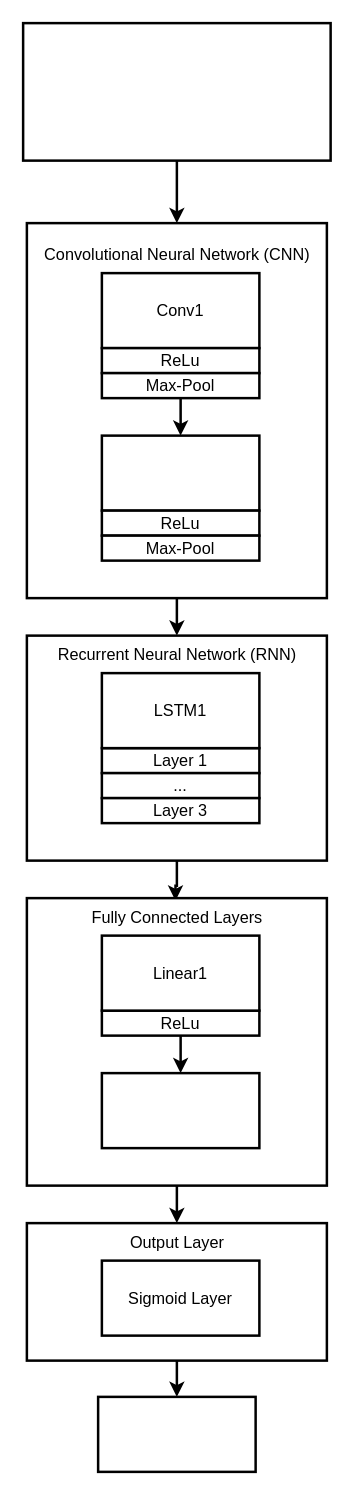
This 353x1494 diagram has some shape labels left out. The centre of each missing label's shape, as x and y in pixels:
Conv2: (x=180, y=472)
Dataset data: Mel-Spectrogram of song target: one hot encoding of mood/theme: (x=176, y=91)
Linear2: (x=180, y=1110)
Predictions: (x=176, y=1433)
